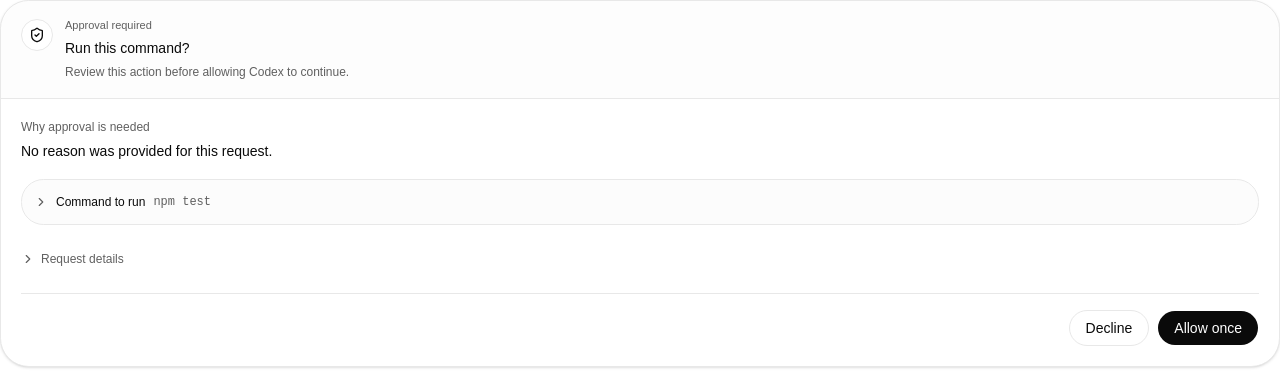
Test: Codex approval methods › command approval sends an allow-once decision and locks repeat clicks
The image size is (1280, 385).
Click the button "Allow once": (1208, 328) [1157,310,1259,346]
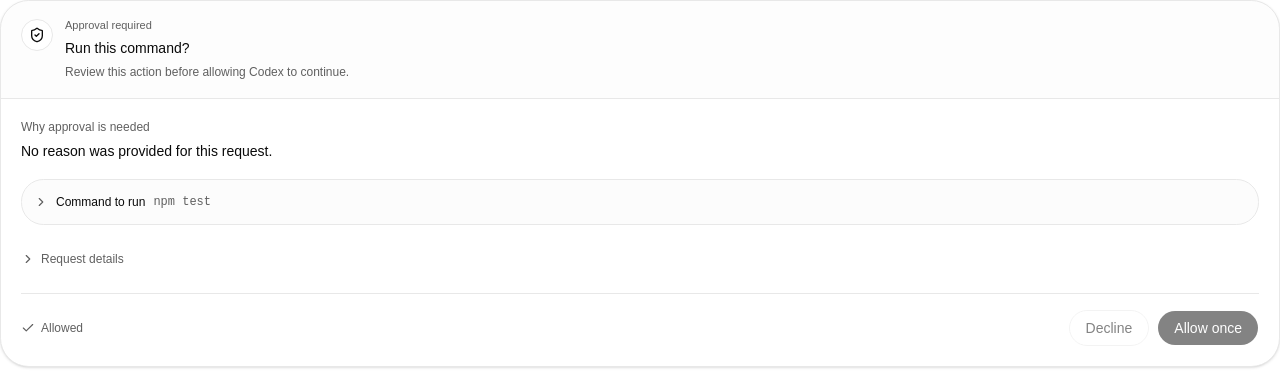
Result: the button "Decline" is disabled at [1069,310,1149,346]
